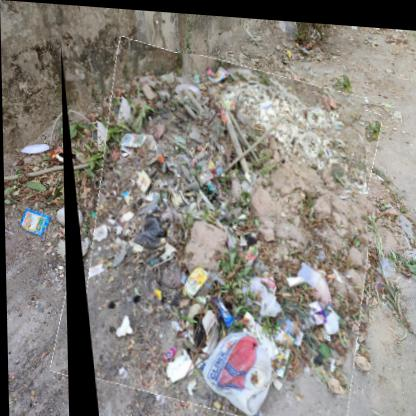Garbage: (61, 44, 372, 416)
